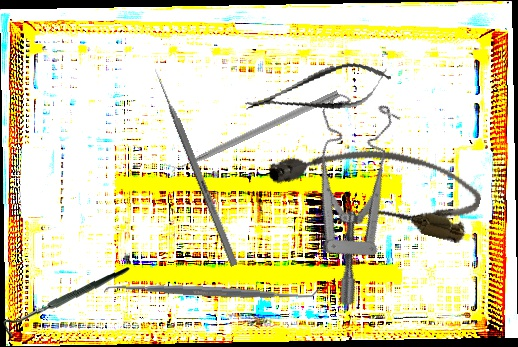Cannula: (263, 121, 487, 247)
Chopper: (162, 81, 340, 176)
Hook Surgical: (2, 260, 130, 345)
Micro Scissor: (241, 55, 395, 126)
Pusher: (151, 67, 239, 267)
Spatula Surgical: (103, 273, 321, 309)
Speculum: (249, 80, 439, 310)
